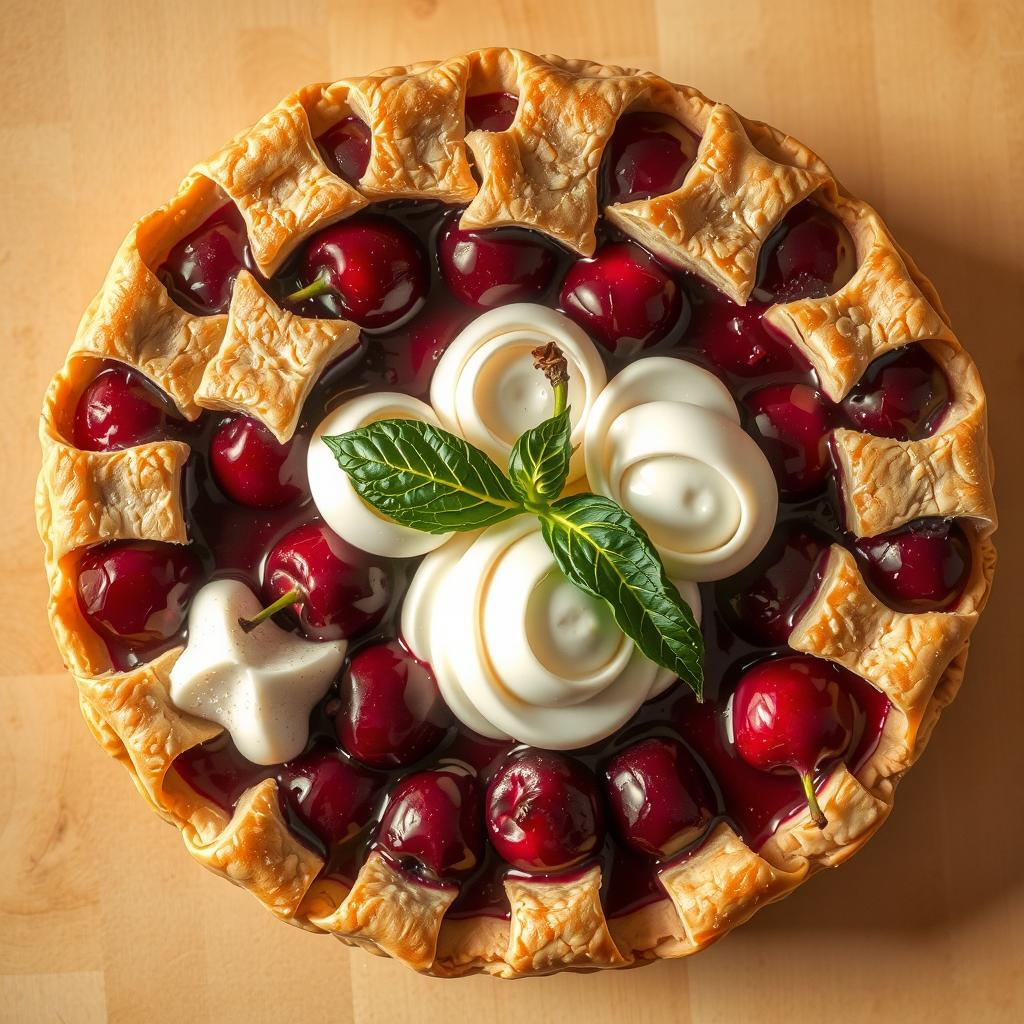pie: (21, 37, 1004, 987)
